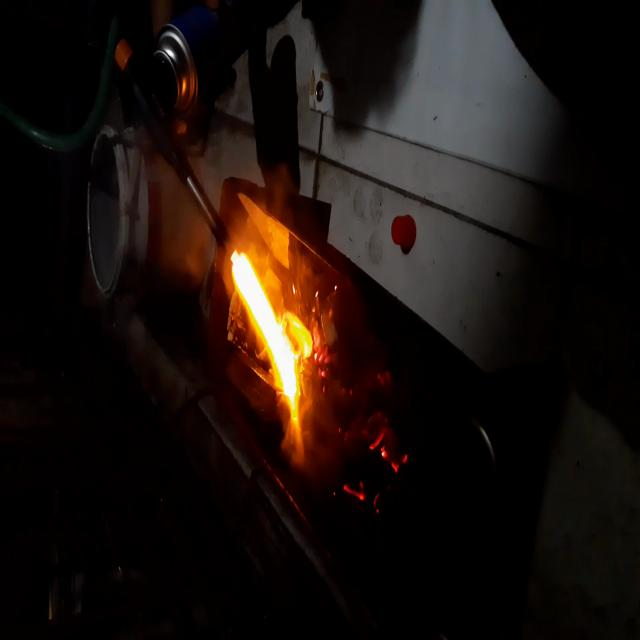Fire: (229, 243, 308, 461), (334, 382, 424, 534)
